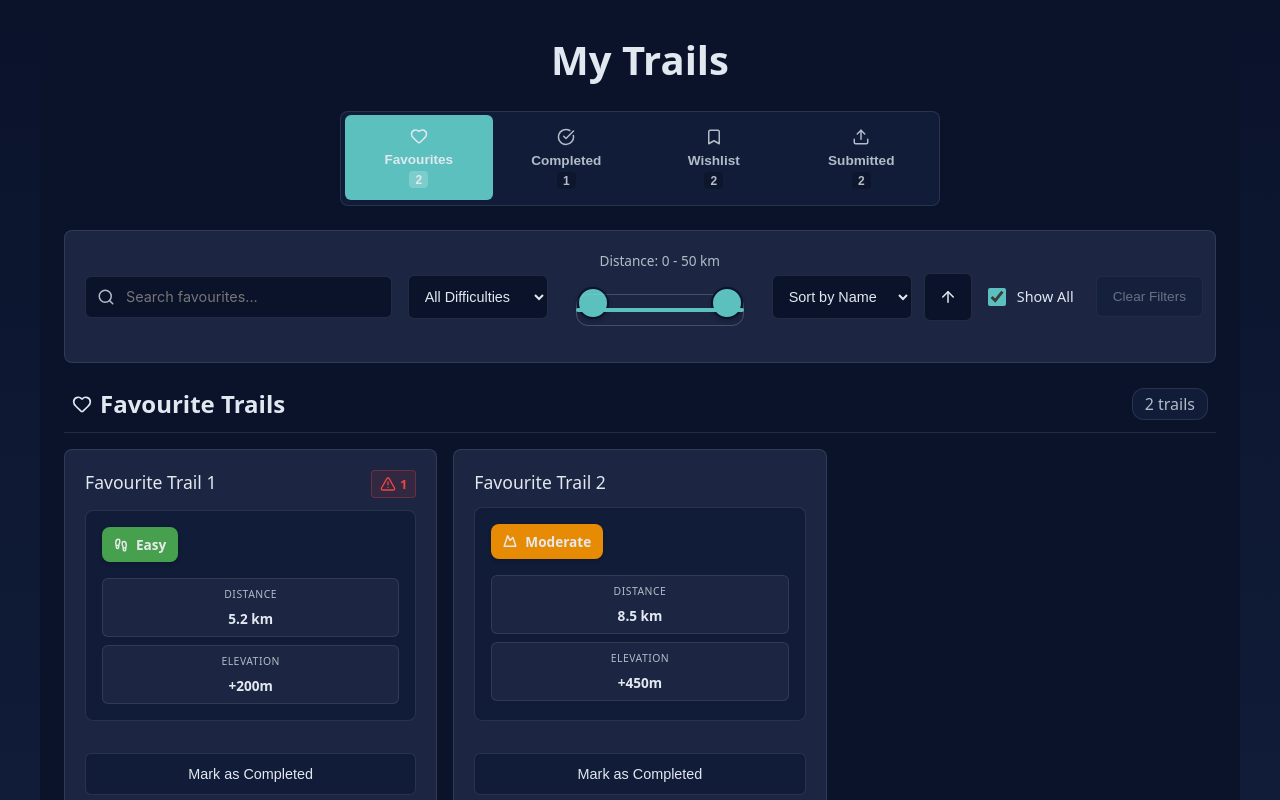
it: MyTrails Component › Tab Navigation › switches to wishlist tab
Check: the heading "Favourite Trails" is shown, box [72,387,285,420]
Click the text "Wishlist". click: (714, 160)
box: [688,153,740,168]
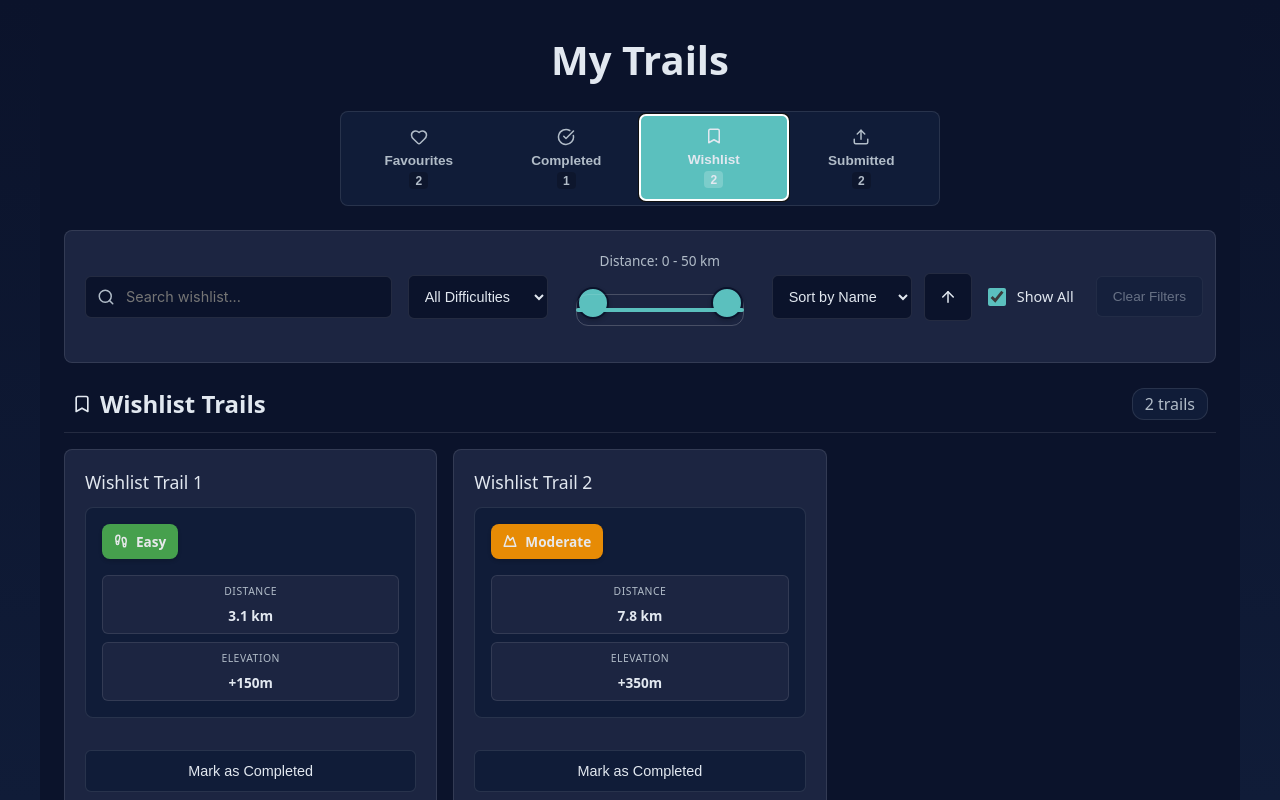
Check: the heading "Wishlist Trails" is shown, box [72,387,266,420]
